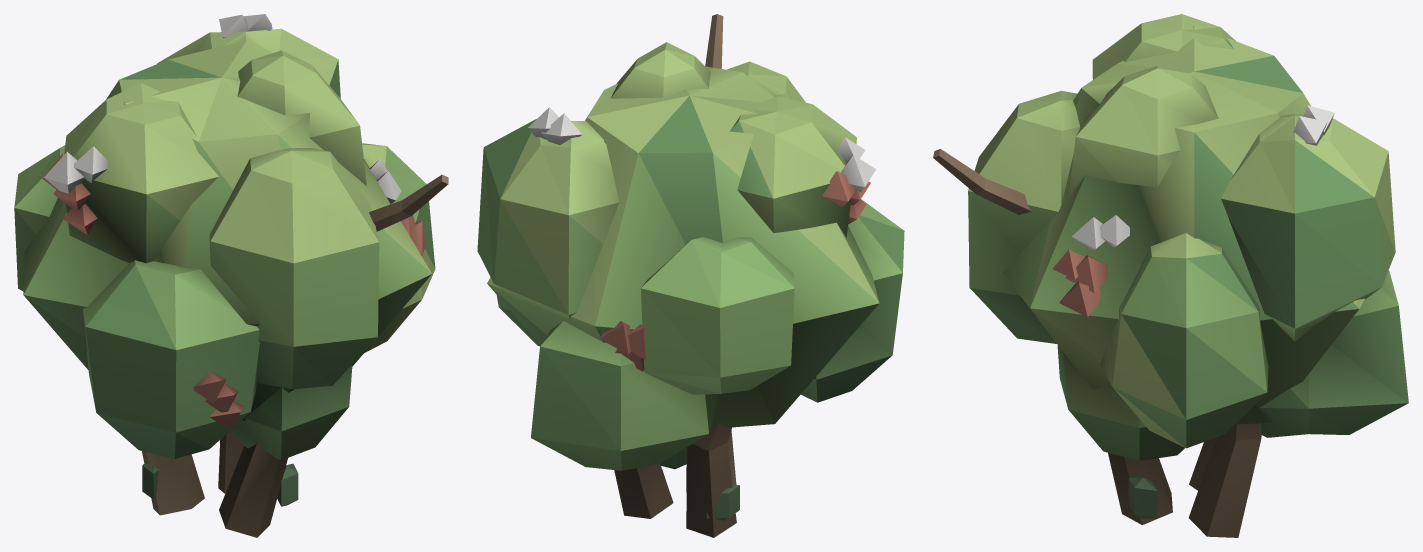
Rendered from bush.glb.
3 views of the same model, side by side, from view 1: azimuth 30°, elevation 25°; view 2: azimuth 150°, elevation 25°; view 3: azimuth 270°, elevation 25° (orthographic). The views are drawn at different scales.
Parts seen in each view (by area): view 1: bush; view 2: bush; view 3: bush.
Part boxes in pixels (x1,y1,x2,y2): bush: [14, 14, 448, 537]; bush: [477, 14, 904, 537]; bush: [933, 14, 1408, 537].
Bounding box in the file's own units: 1.17 × 1.26 × 1.16.
